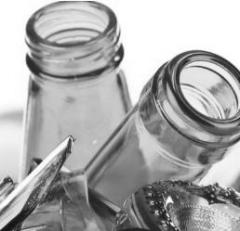glass: (27, 1, 240, 231)
